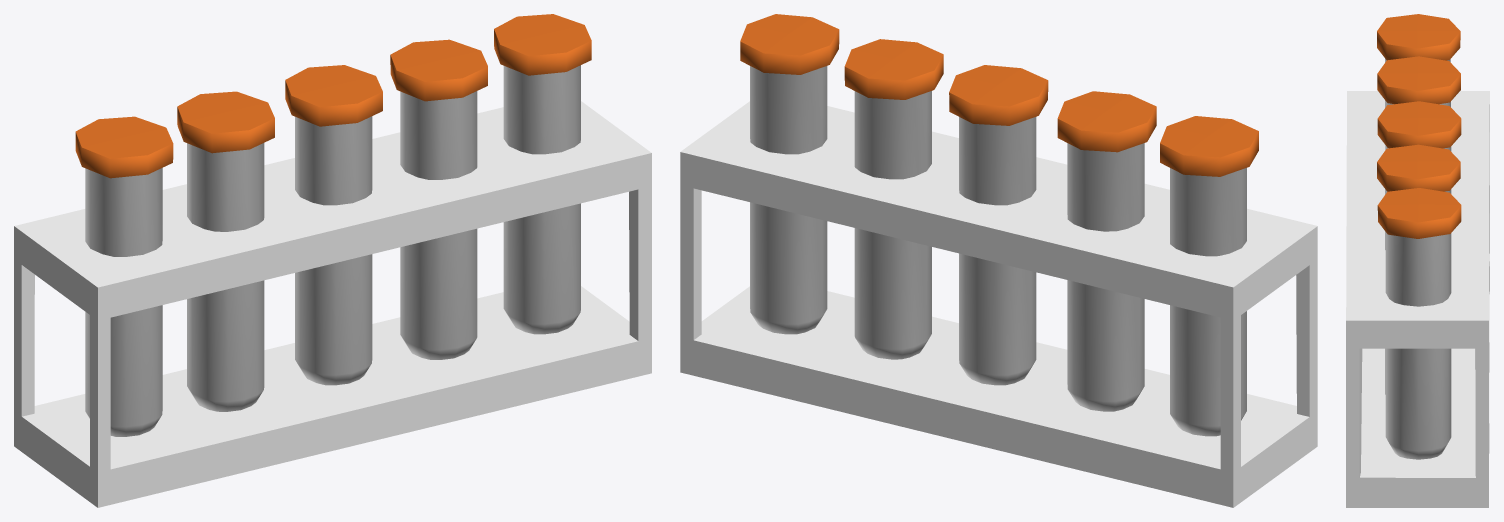
Rendered from TestTubes 1.fbx.
3 renders of one model, left to right at view 1: azimuth 30°, elevation 25°; view 2: azimuth 150°, elevation 25°; view 3: azimuth 270°, elevation 25°, orthographic. The views are drawn at different scales.
Visible parts, largest first — view 1: Cube.004; view 2: Cube.004; view 3: Cube.004.
Boxes of the visible parts, x1,y1,x2,y2 form: Cube.004: [14, 14, 651, 507]; Cube.004: [680, 14, 1317, 507]; Cube.004: [1346, 14, 1489, 507].
Bounding box in the file's own units: 132 × 74.01 × 35.
